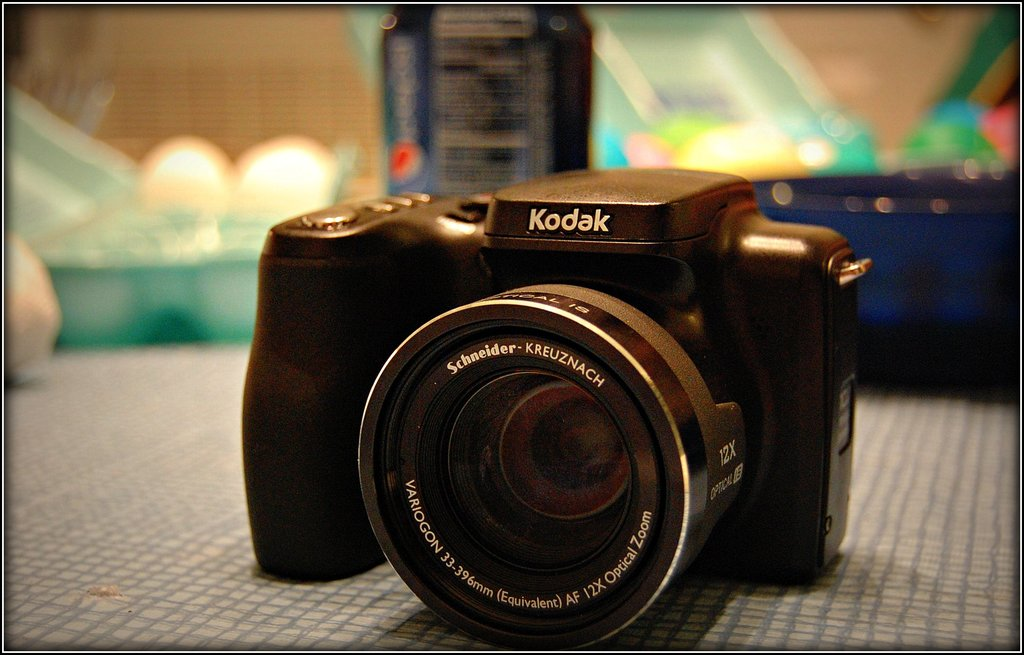person: (6, 228, 63, 389)
